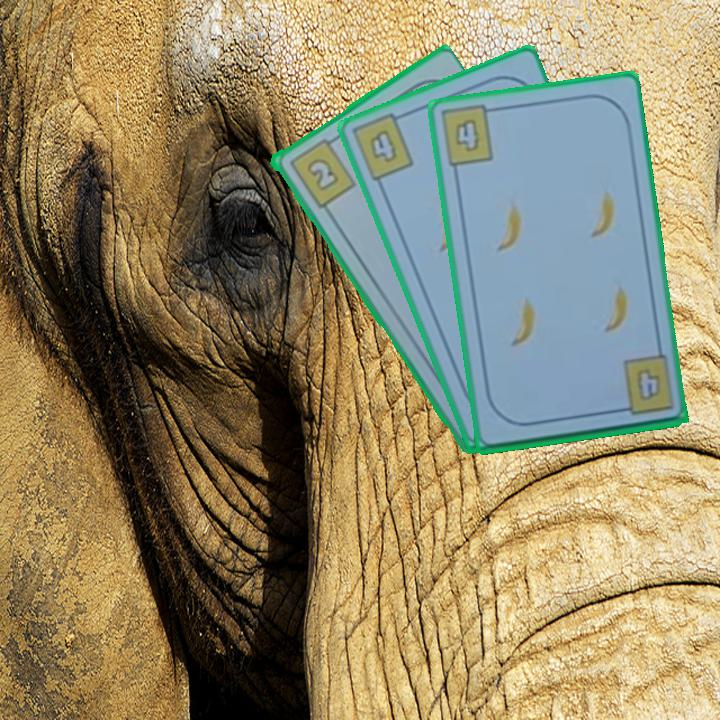2b: (284, 132, 358, 211)
4b: (351, 108, 417, 185), (440, 103, 500, 170), (632, 364, 663, 404)
